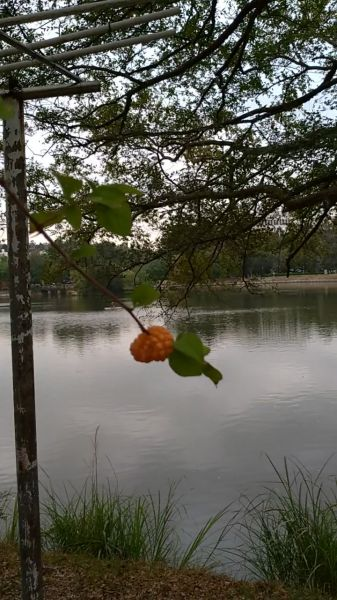eggs: (124, 320, 182, 367)
